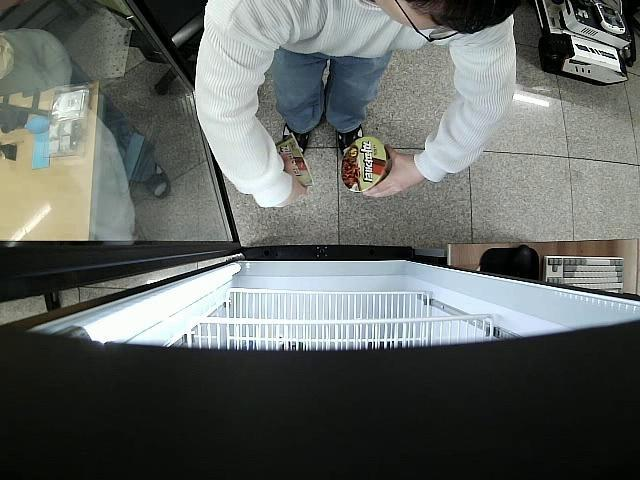03_chapagetti_L: (336, 137, 388, 194), (274, 130, 316, 189)
